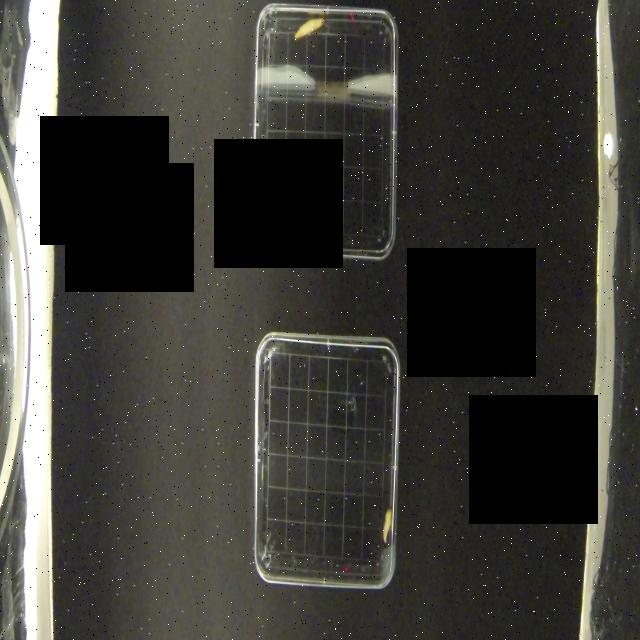larva: (294, 16, 325, 40), (379, 507, 394, 545)
